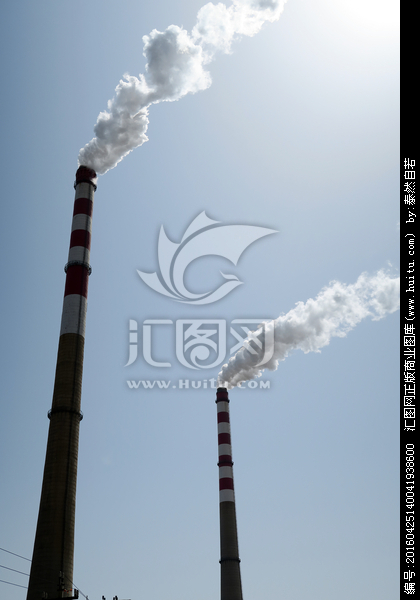dust: (71, 1, 283, 182), (194, 266, 391, 403)
